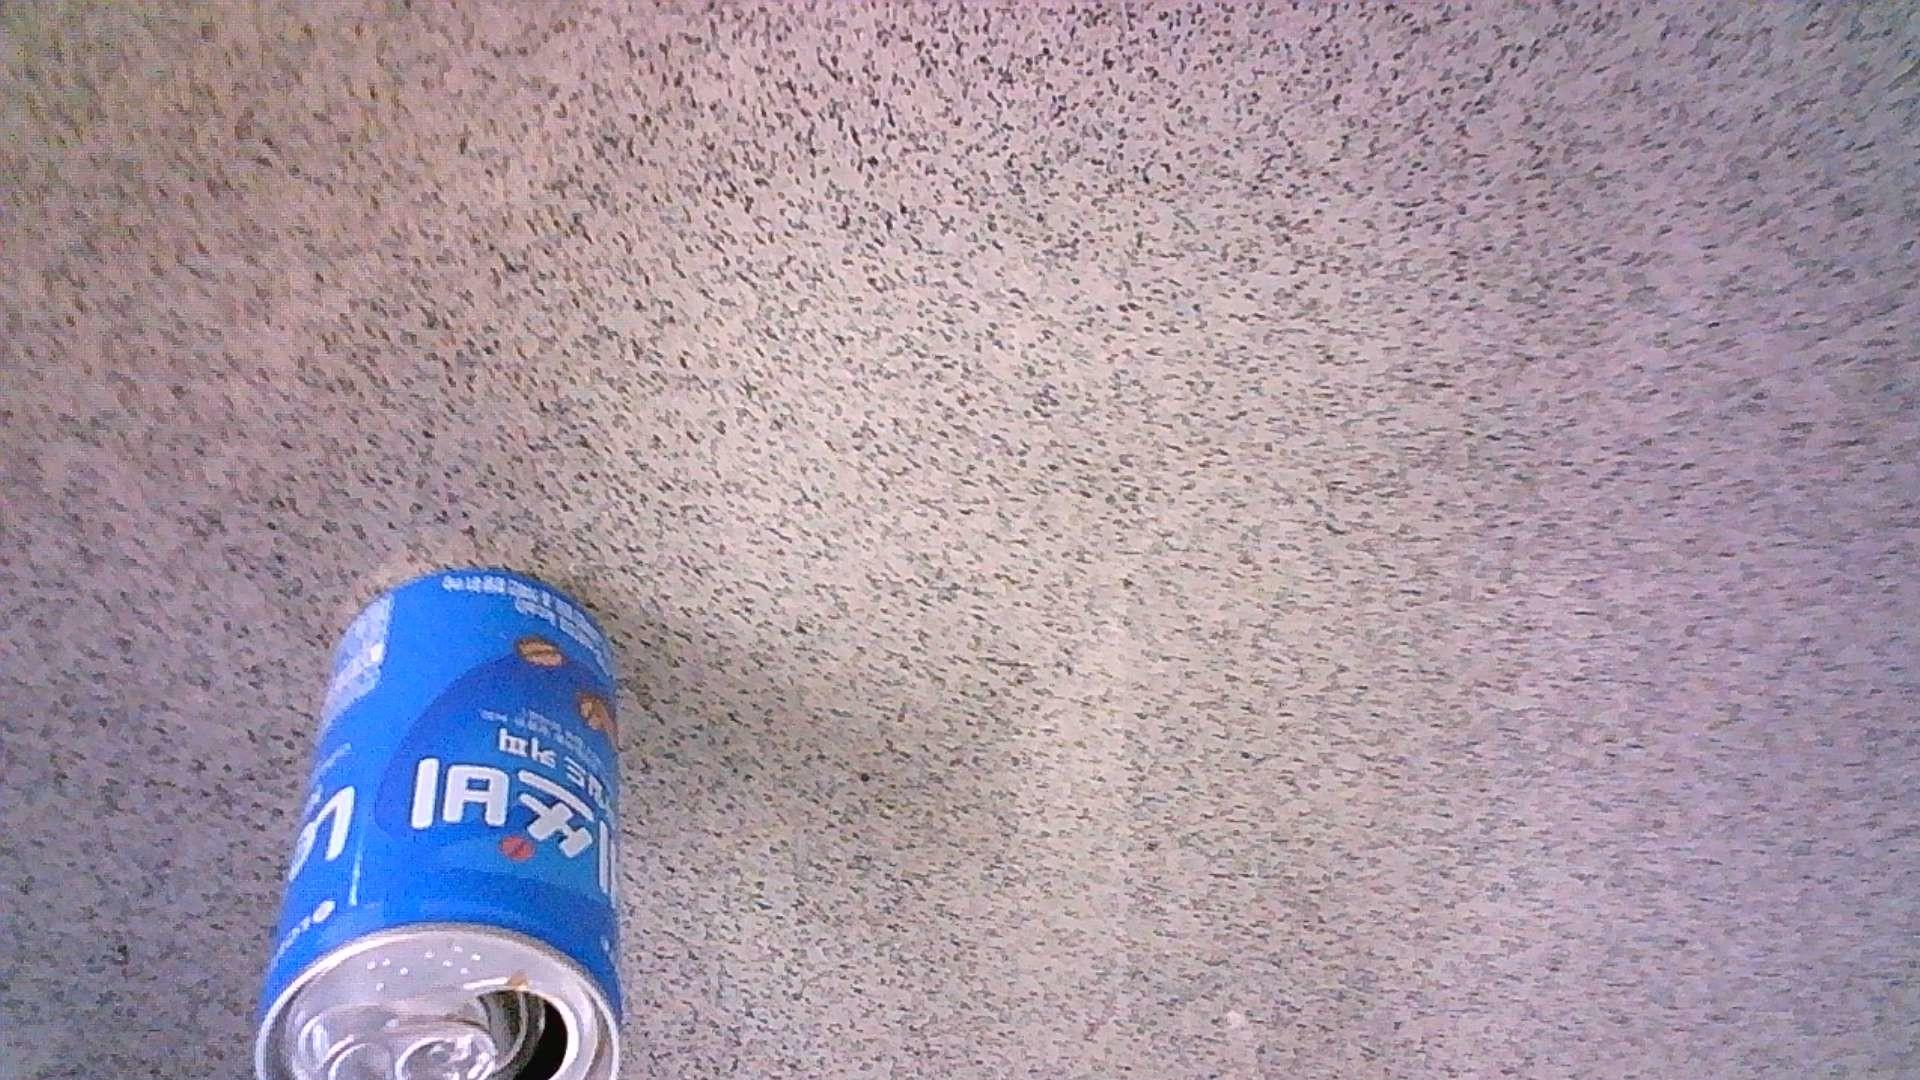letsbe: (255, 564, 625, 1080)
